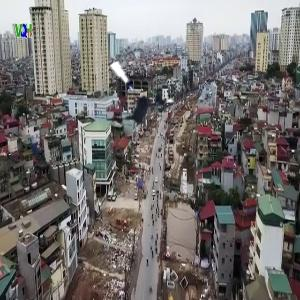drone: (86, 60, 175, 149)
